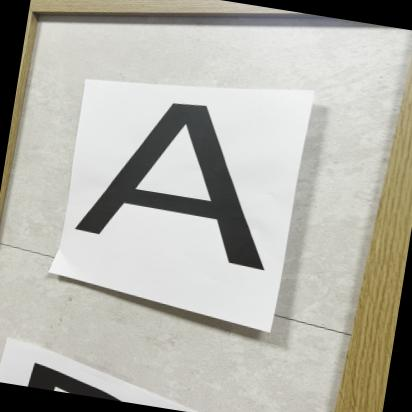seat: (66, 78, 336, 290)
